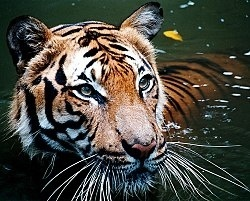tigre: (5, 1, 250, 199)
